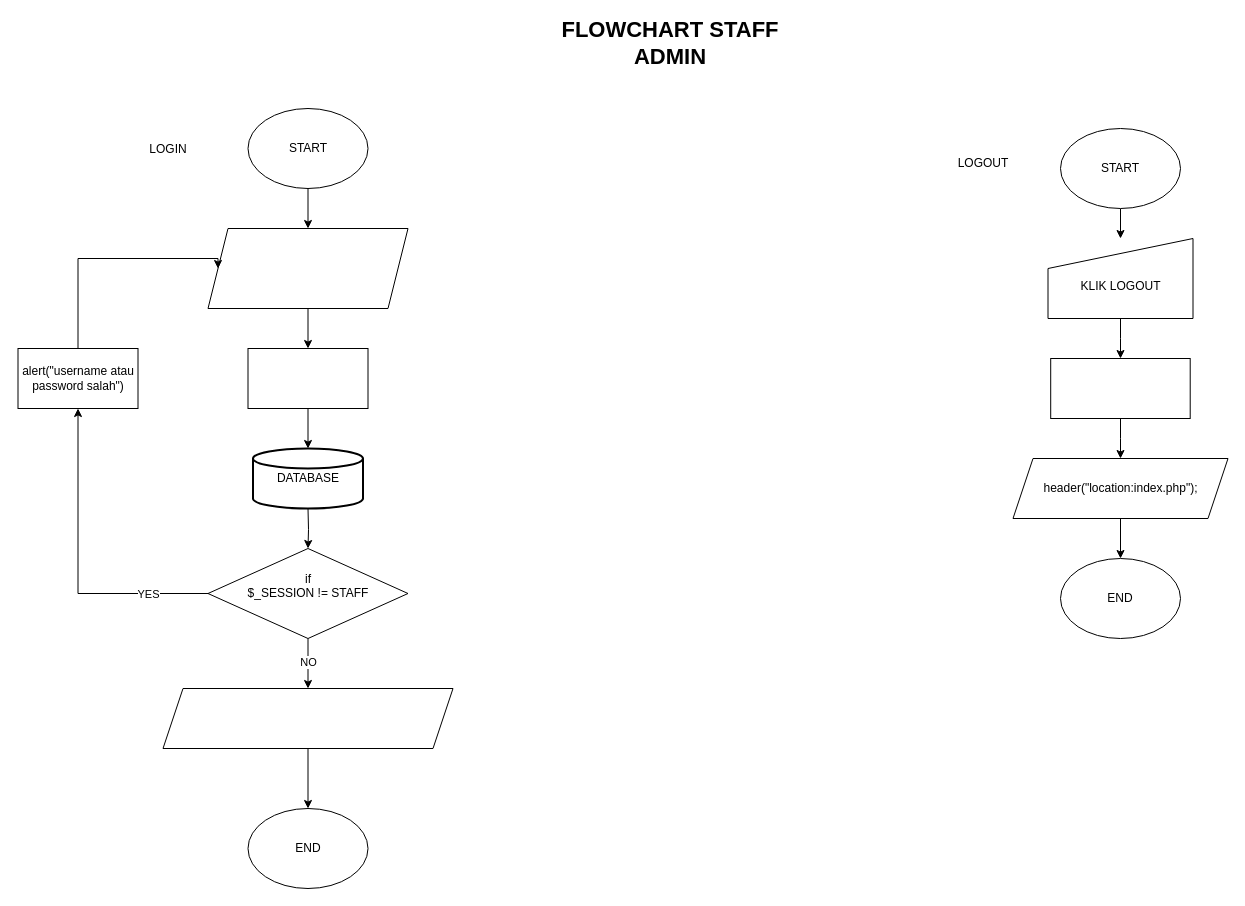
This 1245x906 diagram has some shape labels left out. The shapes that lost their labels are listed below. From the top down, each one's centre as x and y in pixels, then its label:
point (307, 268): INPUT username=$username; password=$password;
point (307, 378): action="check.php" method="post"
point (1120, 388): session_start(); session_unset(); session_destroy();
point (307, 718): header("location:staff/dashboard.php");
